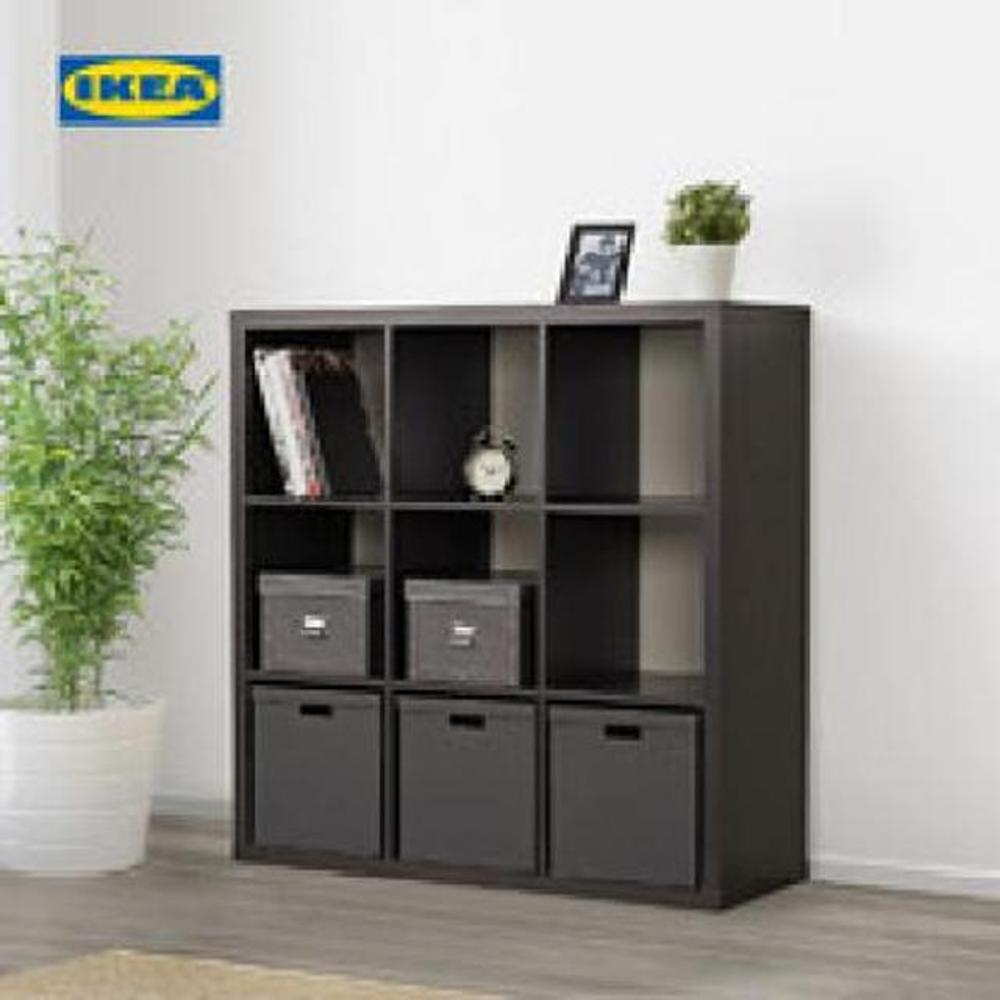lamp: (224, 299, 817, 918)
